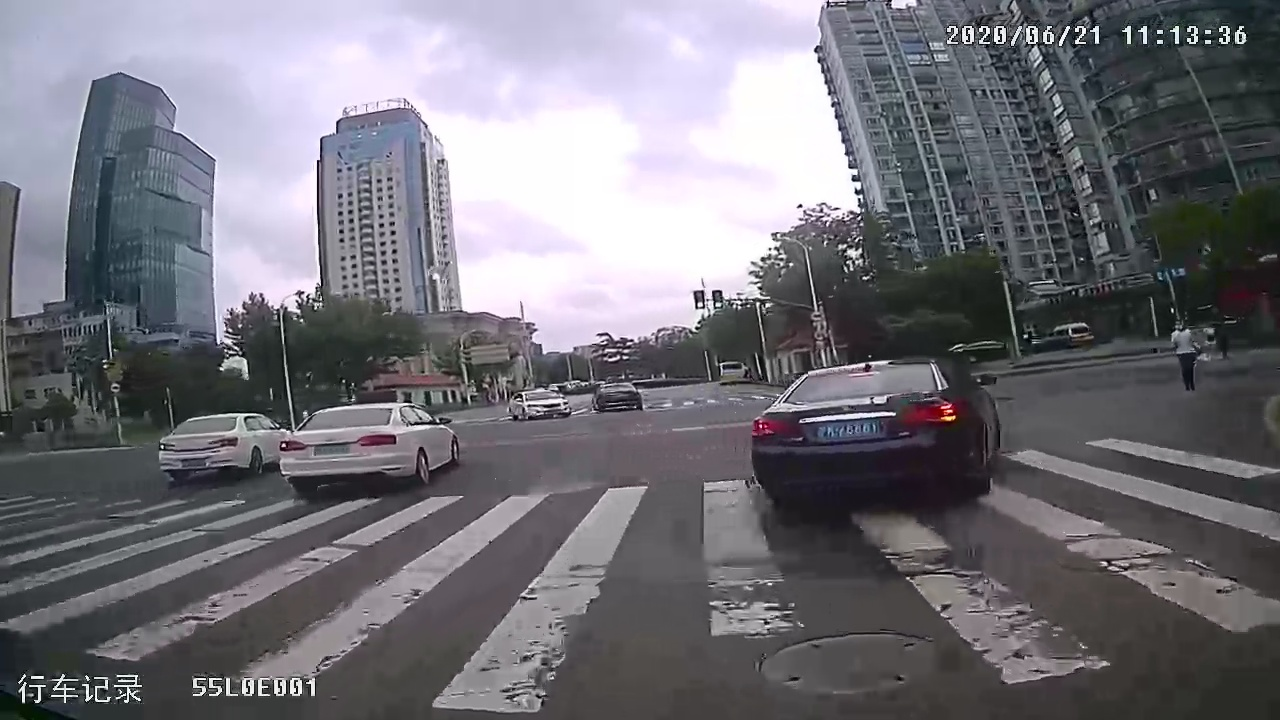crosswalk: (14, 451, 1267, 699)
